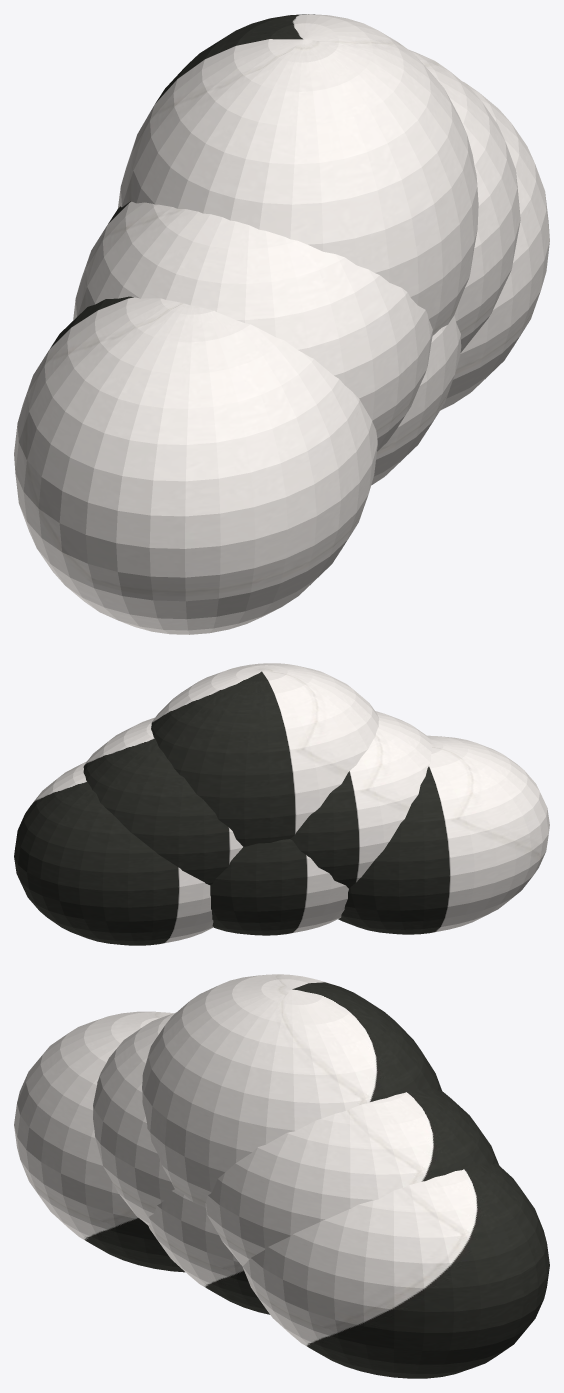
Rendered from nube.obj.
The picture shows the model from 3 angles, top to bottom: view 1: azimuth 30°, elevation 25°; view 2: azimuth 150°, elevation 25°; view 3: azimuth 270°, elevation 25°; orthographic projection. The views are drawn at different scales.
Parts seen in each view (by area): view 1: Sphere.004_Sphere; view 2: Sphere.004_Sphere; view 3: Sphere.004_Sphere.
Part boxes in pixels (x1=…): Sphere.004_Sphere: x1=14, y1=14, x2=549, y2=634; Sphere.004_Sphere: x1=14, y1=663, x2=549, y2=945; Sphere.004_Sphere: x1=14, y1=974, x2=549, y2=1378.
Bounding box in the file's own units: 2.96 × 1.9 × 2.76.
